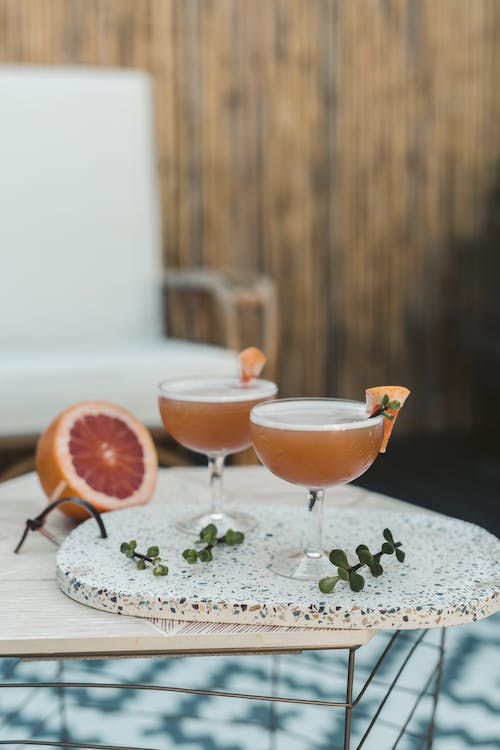alcohol: (247, 395, 387, 584), (154, 374, 279, 537)
